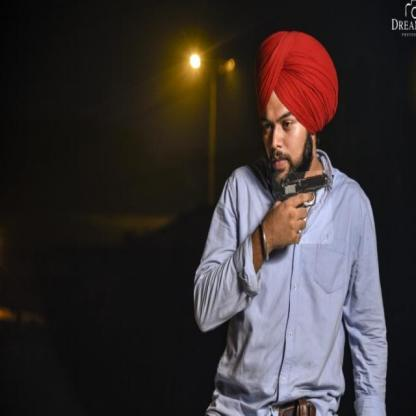handgun: (272, 170, 333, 244)
